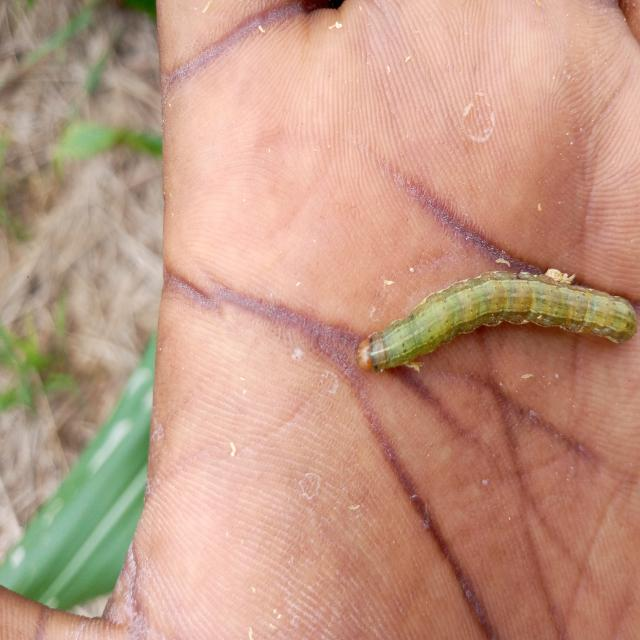yellow-stem-borer-larva: (332, 258, 640, 384)
